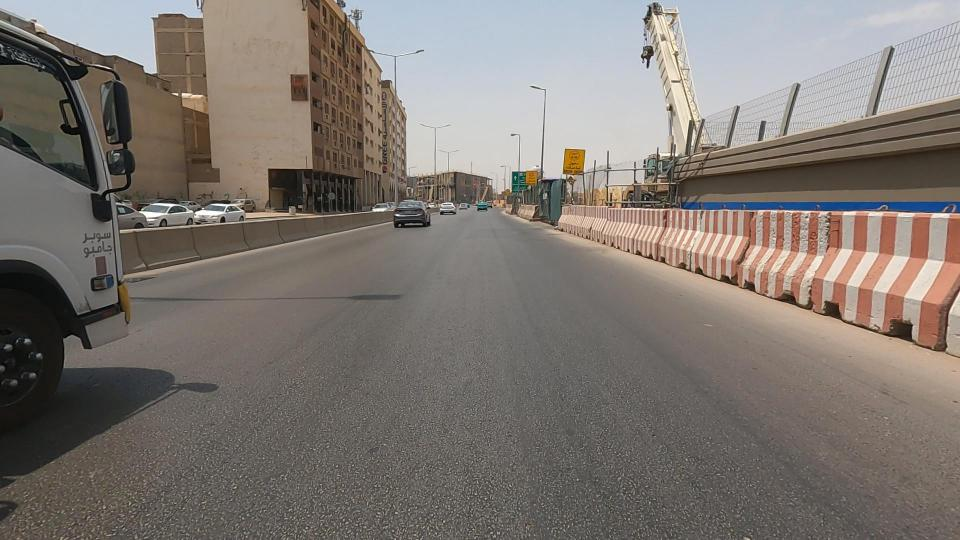BAD_BILLBOARD: (271, 41, 323, 133)
CONSTRUCTION_ROAD: (617, 130, 934, 343), (533, 142, 679, 303), (503, 178, 572, 239)
